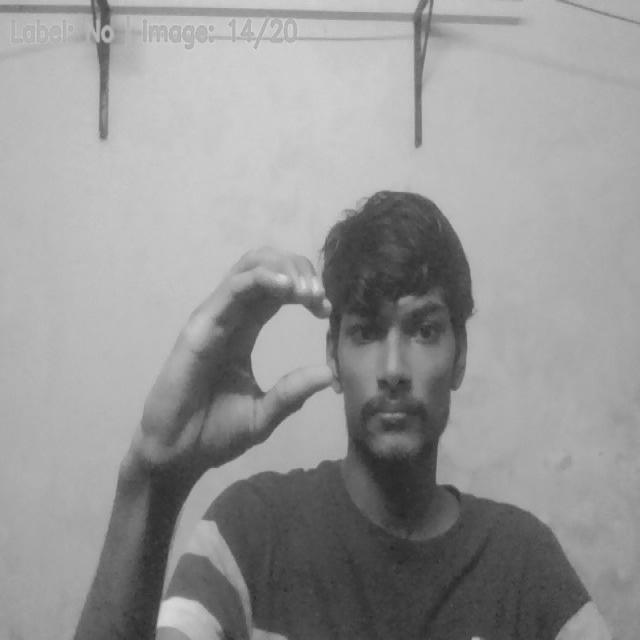No: (131, 245, 341, 480)
